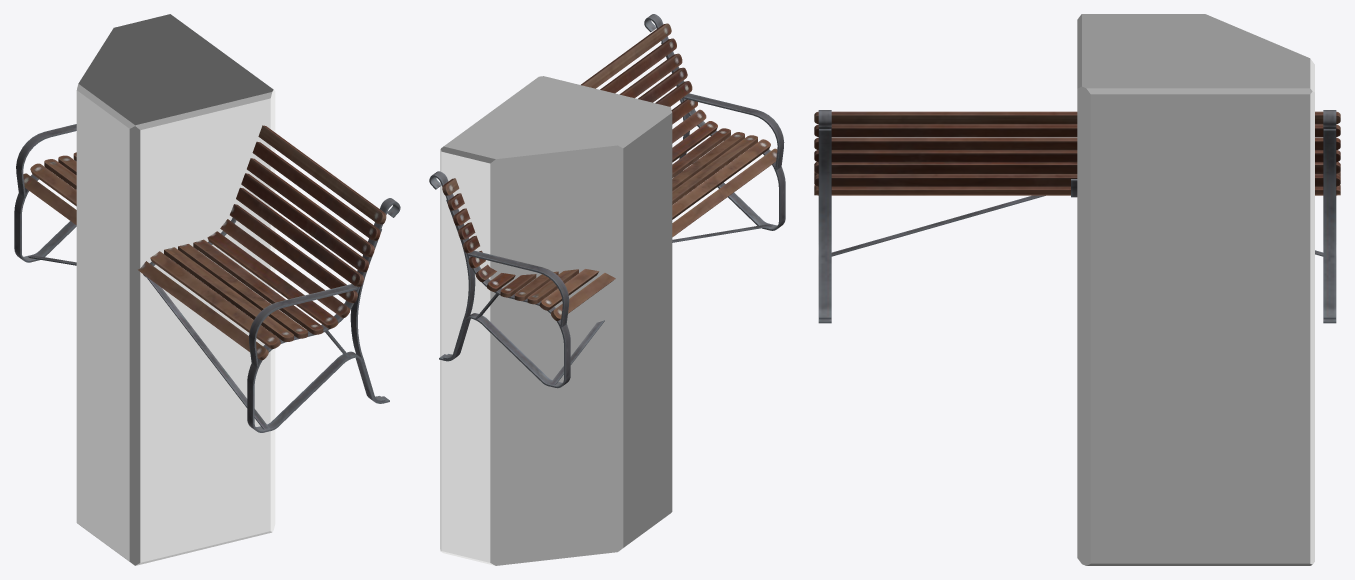
The model's file is SM_Bench_03.fbx.
The picture shows the model from 3 angles, left to right: view 1: azimuth 30°, elevation 25°; view 2: azimuth 150°, elevation 25°; view 3: azimuth 270°, elevation 25°; orthographic projection. The views are drawn at different scales.
Visible parts, largest first — view 1: SM_Bench_03_ConvexHulls, SM_Bench_03_LOD0; view 2: SM_Bench_03_ConvexHulls, SM_Bench_03_LOD0; view 3: SM_Bench_03_ConvexHulls, SM_Bench_03_LOD0.
Part boxes in pixels (left/top/right/bottom): SM_Bench_03_ConvexHulls: left=76, top=14, right=275, bottom=565; SM_Bench_03_LOD0: left=14, top=124, right=400, bottom=432; SM_Bench_03_ConvexHulls: left=440, top=76, right=672, bottom=565; SM_Bench_03_LOD0: left=429, top=14, right=785, bottom=388; SM_Bench_03_ConvexHulls: left=1077, top=14, right=1314, bottom=565; SM_Bench_03_LOD0: left=814, top=110, right=1340, bottom=323.
Size of the model in its own units: 70.1 by 199 by 200.
